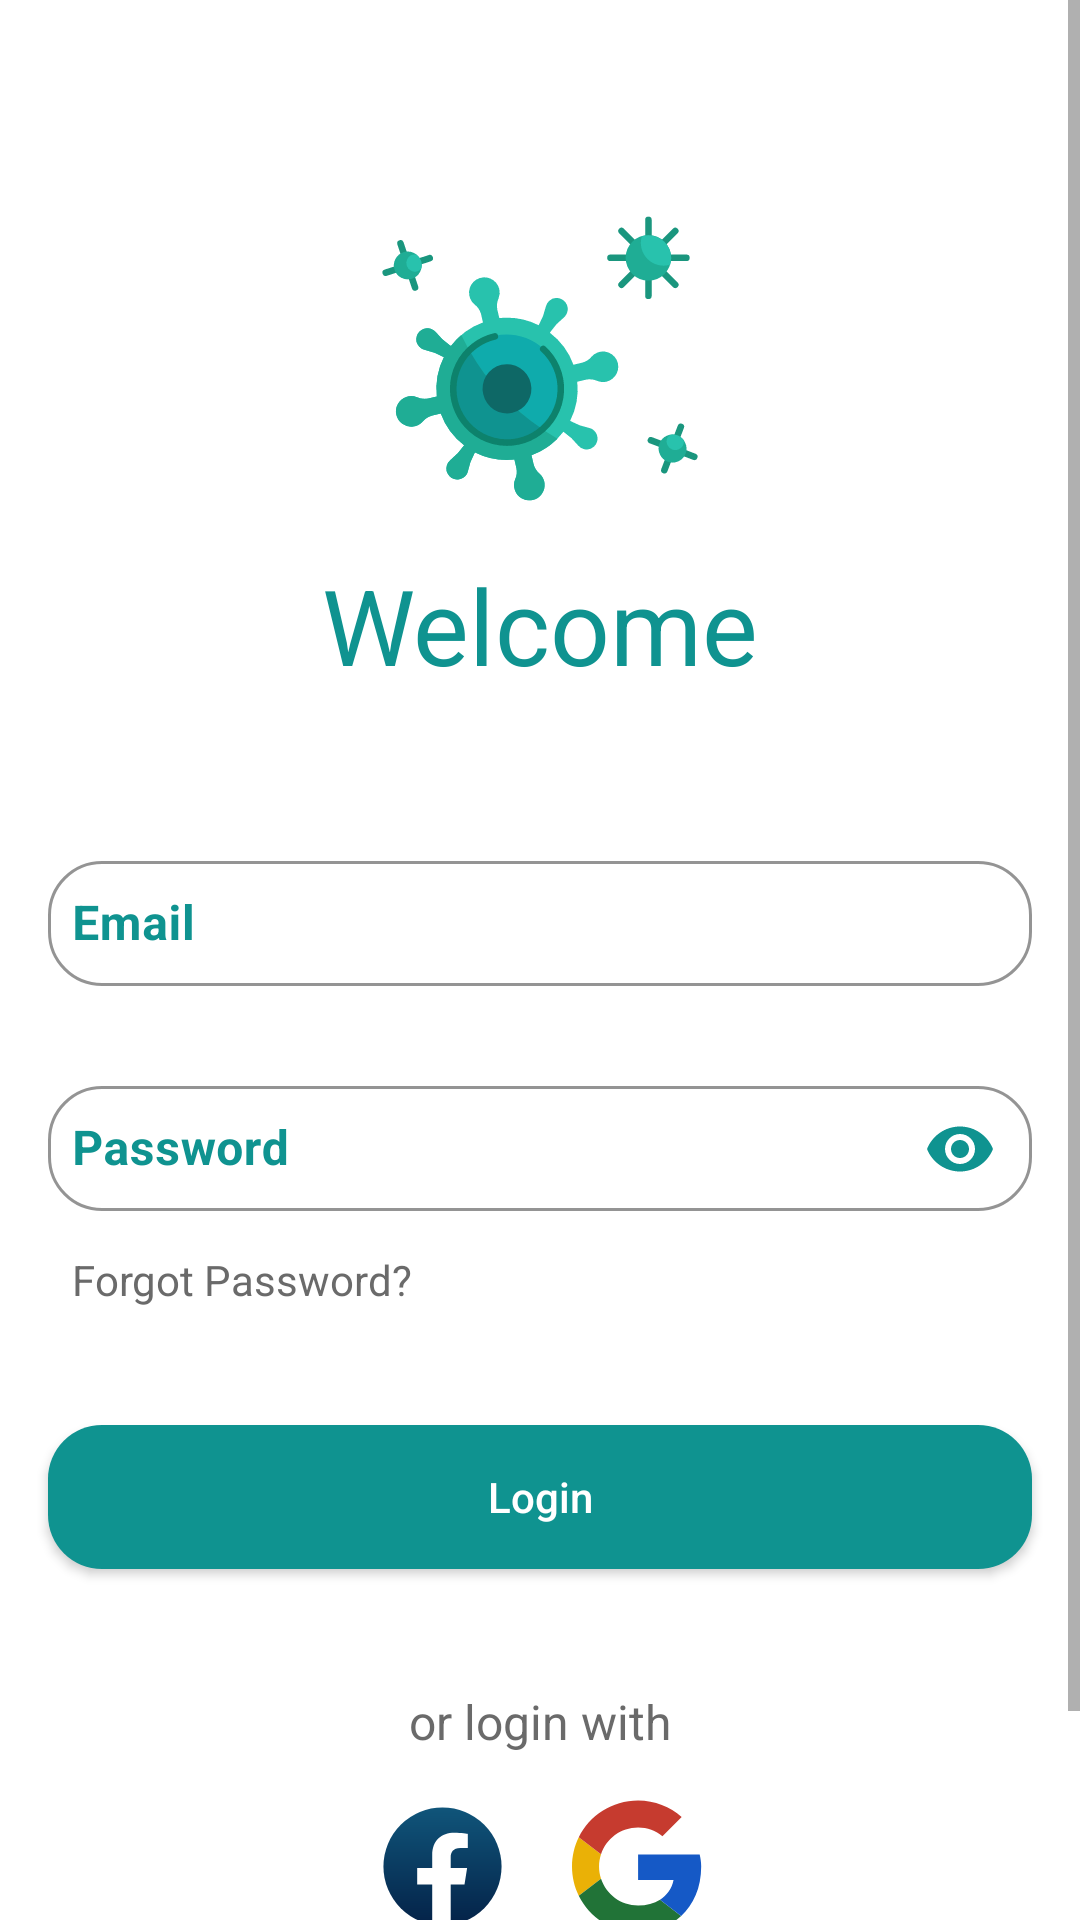

Icon click points for this 1080px×1920px phone screenshot, format [x,y]:
coronavirus: [540,358]
